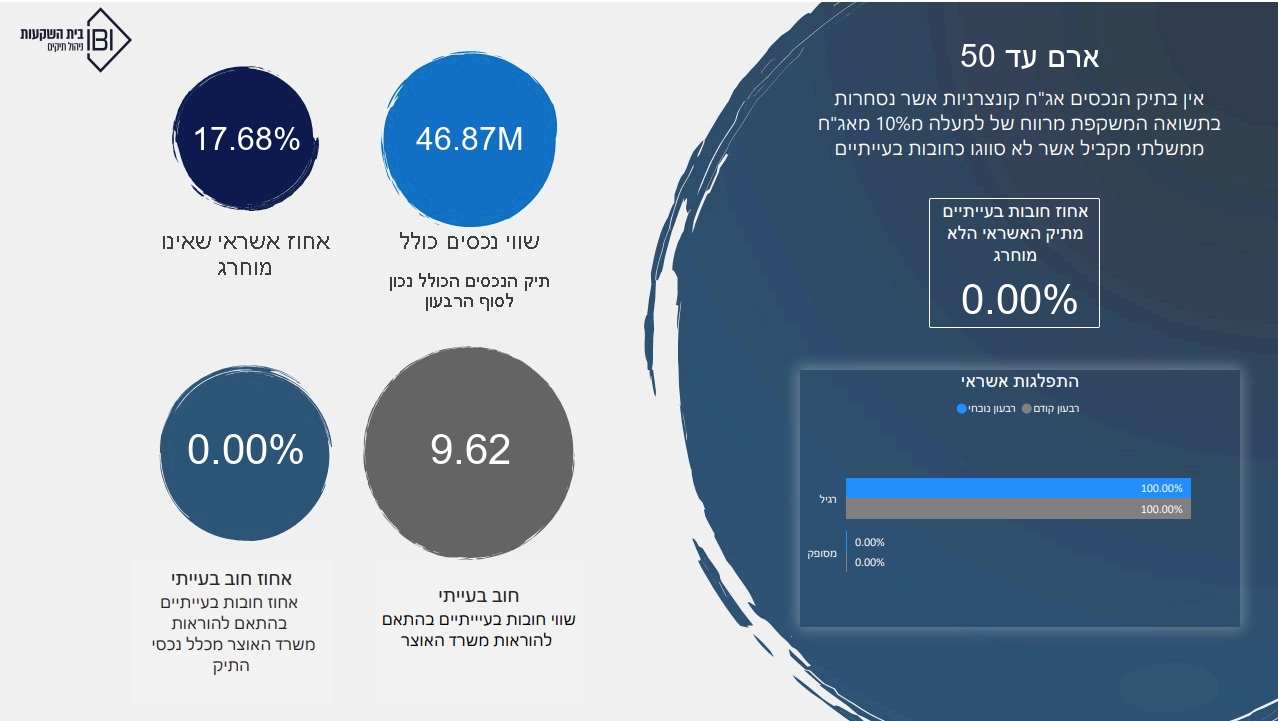

The page's visual inventory and layout, read from the dashboard file:
{"tool":"powerbi","page":{"name":"ריכוז מנהלים 8357","canvas":[1280,720],"ordinal":2},"visuals":[{"type":"card","title":"תיק הנכסים הכולל נכון לסוף הרבעון","fields":{"Values":["Max(Sheet1.שווי תיק)"]},"box":[361.6,71.5,218.6,118.5],"z":0},{"type":"card","title":"אחוז אשראי שאינו מוחרג","fields":{"Values":["Sheet1.אחוז משווי תיק"]},"box":[161.5,77.8,170.2,117.7],"z":1000},{"type":"card","title":"שווי חובות בהשגחה בהתאם להוראות משרד האוצר","fields":{"Values":["Sheet1.שווי נייר נוסחא"]},"box":[335.6,391,280.1,117.7],"z":2000},{"type":"card","title":"אחוז חובות בהשגחה בהתאם להוראות משרד האוצר","fields":{"Values":["Sheet1.אחוז משווי תיק"]},"box":[107,391,280.1,117.7],"z":3000},{"type":"image","box":[0,0,152.4,76.2],"z":4000},{"type":"textbox","box":[801.5,77.8,436.7,100.2],"z":5000},{"type":"card","title":"אחוז חובות בעייתיים מתיק האשראי הלא מוחרג","fields":{"Values":["Sheet1.אחוז מאפיק נוסחא"]},"box":[928.9,195.5,171.2,130.3],"z":6000},{"type":"clusteredBarChart","title":"התפלגות אשראי","fields":{"Category":["סוג אגח.UserEnumsName"],"Y":["Sum(Sheet1.אחוז משווי תיק לפי שיערוך אחרון)","Sum(Lastq.אחוז משווי תיק לפי שיערוך אחרון)"]},"box":[799.5,367.7,440.6,257.8],"z":7000},{"type":"card","fields":{"Values":["Min(NumberTik.NameGroup)"]},"box":[799.5,0,480.5,72],"z":8000},{"type":"textbox","box":[152.7,550.5,201.3,149.8],"z":9000},{"type":"textbox","box":[372.5,563.2,190.6,137.1],"z":10000}]}

Visuals, with their boxes in screenshot pixels (x1, y1, x2, y2), scaled from the page's 1280x720 canvas onto the 1278x721 screenshot:
"תיק הנכסים הכולל נכון לסוף הרבעון" card: {"left": 361, "top": 72, "right": 579, "bottom": 190}
"אחוז אשראי שאינו מוחרג" card: {"left": 161, "top": 78, "right": 331, "bottom": 196}
"שווי חובות בהשגחה בהתאם להוראות משרד האוצר" card: {"left": 335, "top": 392, "right": 615, "bottom": 509}
"אחוז חובות בהשגחה בהתאם להוראות משרד האוצר" card: {"left": 107, "top": 392, "right": 386, "bottom": 509}
image: {"left": 0, "top": 0, "right": 152, "bottom": 76}
textbox: {"left": 800, "top": 78, "right": 1236, "bottom": 178}
"אחוז חובות בעייתיים מתיק האשראי הלא מוחרג" card: {"left": 927, "top": 196, "right": 1098, "bottom": 326}
"התפלגות אשראי" clusteredBarChart: {"left": 798, "top": 368, "right": 1238, "bottom": 626}
card - Min(NumberTik.NameGroup): {"left": 798, "top": 0, "right": 1277, "bottom": 72}
textbox: {"left": 152, "top": 551, "right": 353, "bottom": 701}
textbox: {"left": 372, "top": 564, "right": 562, "bottom": 701}
